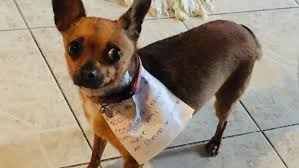Chihuahua: (43, 1, 278, 166)
